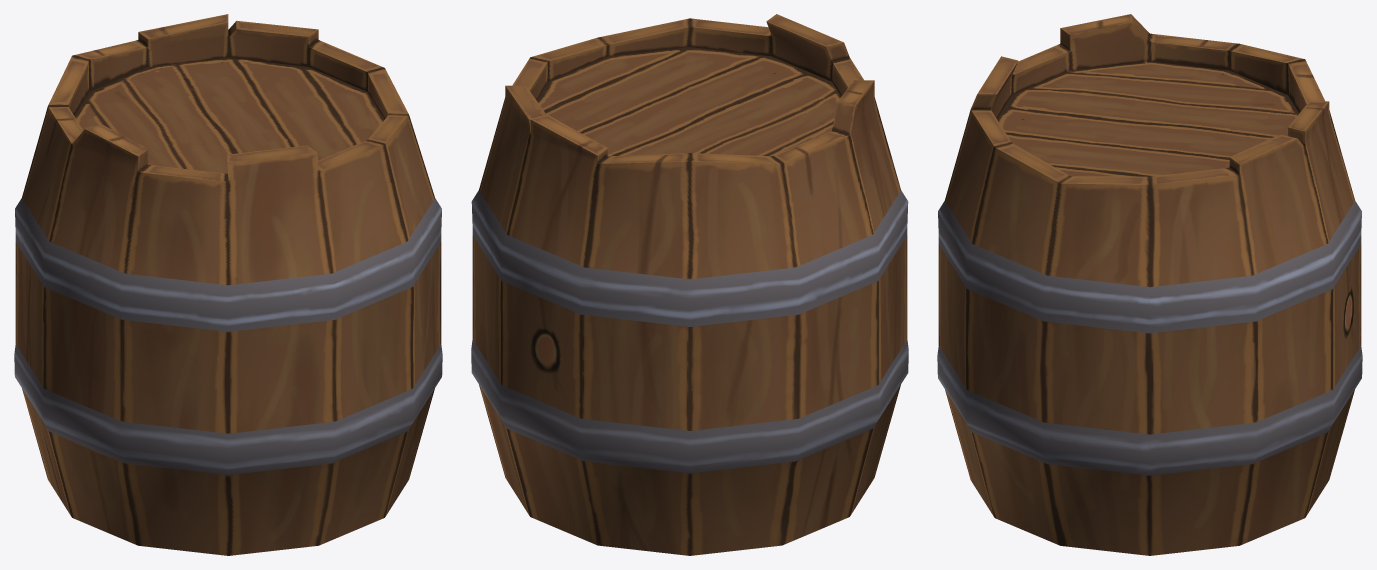
The model's file is Resurce Barrel.fbx.
3 renders of one model, left to right at view 1: azimuth 30°, elevation 25°; view 2: azimuth 150°, elevation 25°; view 3: azimuth 270°, elevation 25°, orthographic. The views are drawn at different scales.
Parts seen in each view (by area): view 1: Barrel; view 2: Barrel; view 3: Barrel.
Boxes of the visible parts, x1=… form: Barrel: x1=14, y1=14, x2=442, y2=555; Barrel: x1=471, y1=14, x2=908, y2=555; Barrel: x1=937, y1=14, x2=1362, y2=555.
Bounding box in the file's own units: 201 × 205 × 201.
